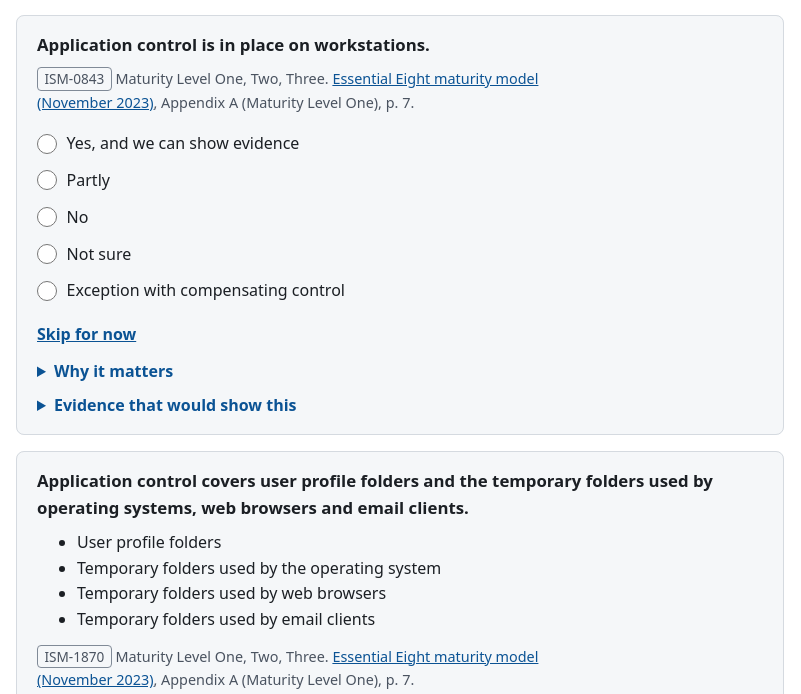
Test: skipping and partial results (D30, D32) › lets a question be skipped and the skip undone
(page scrolled)
Click the button "Skip for now" at (87, 334), box [37, 318, 136, 351]
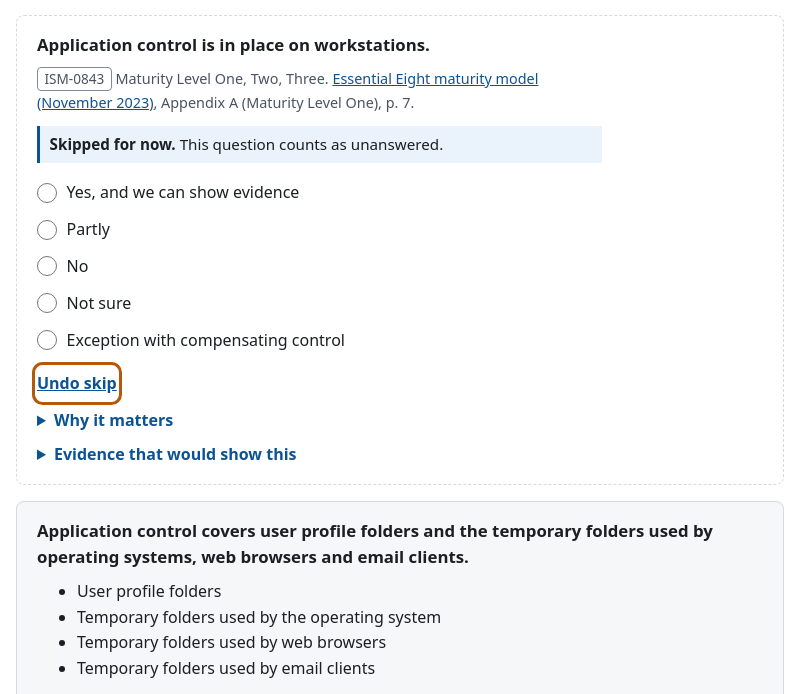
Expected: the element "Application control is in place on workstations" shows "Skipped for now.", [50, 134, 176, 154]
Click the button "Undo skip" at (77, 384), box [37, 367, 117, 400]
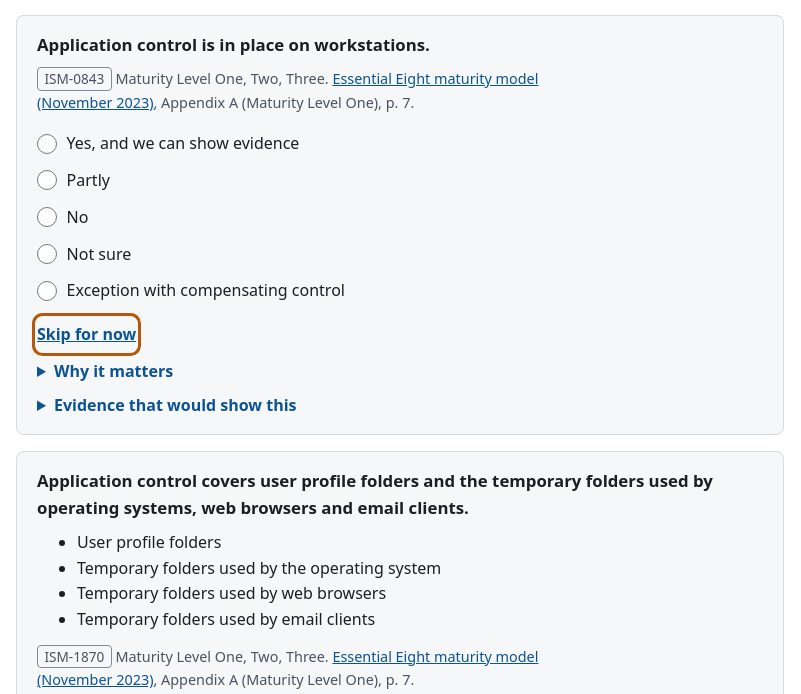
Expected: the element "Application control is in place on workstations" no longer shows "Skipped for now.", [16, 15, 784, 435]
